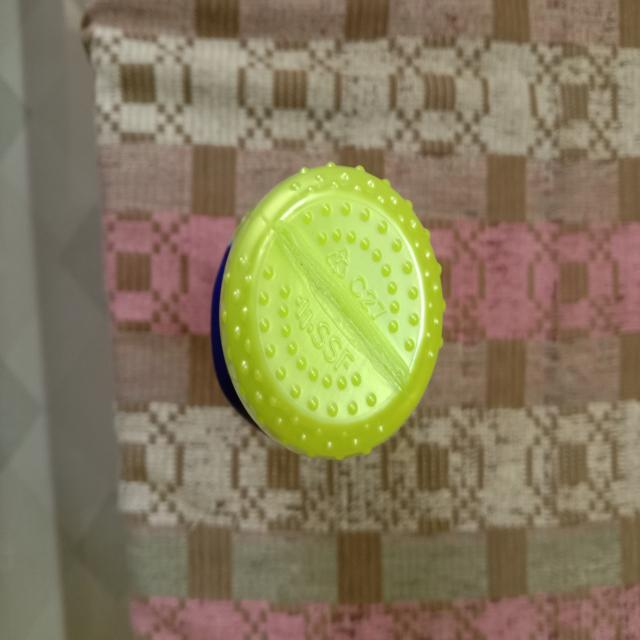detergent: (223, 162, 444, 465)
